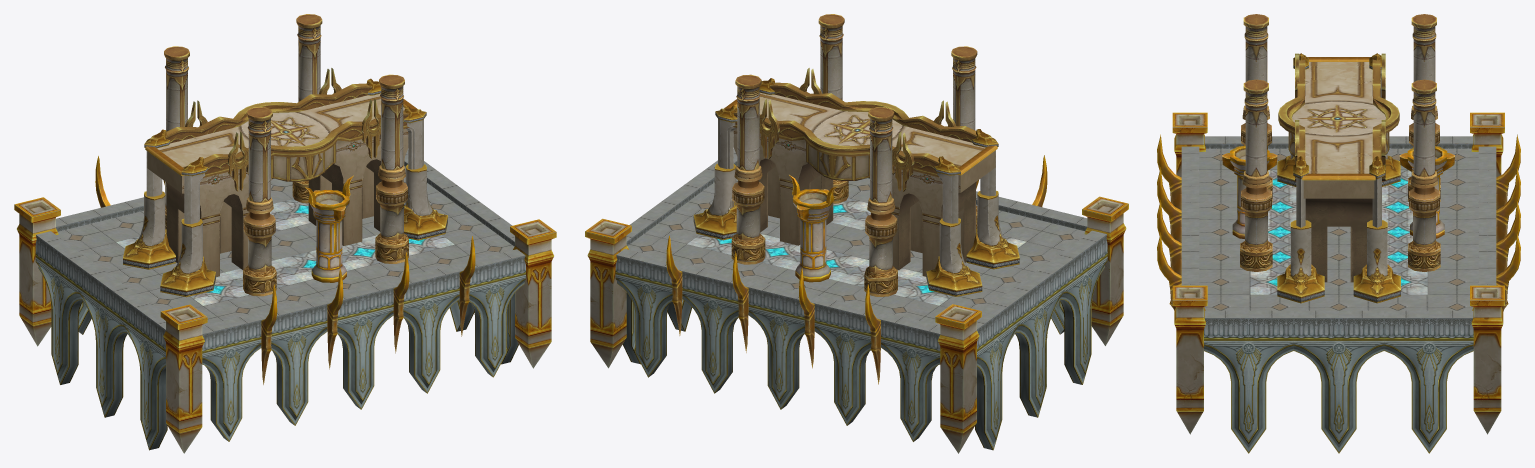
The model's file is Bridge.fbx.
3 views of the same model, side by side, from view 1: azimuth 30°, elevation 25°; view 2: azimuth 150°, elevation 25°; view 3: azimuth 270°, elevation 25° (orthographic).
Visible parts, largest first — view 1: Bridgeu; view 2: Bridgeu; view 3: Bridgeu.
Boxes of the visible parts, box(x1,y1,x2,y2) form: Bridgeu: box(14, 14, 556, 453); Bridgeu: box(585, 14, 1128, 453); Bridgeu: box(1157, 14, 1520, 453).
Bounding box in the file's own units: 23.78 × 18.45 × 19.5.
